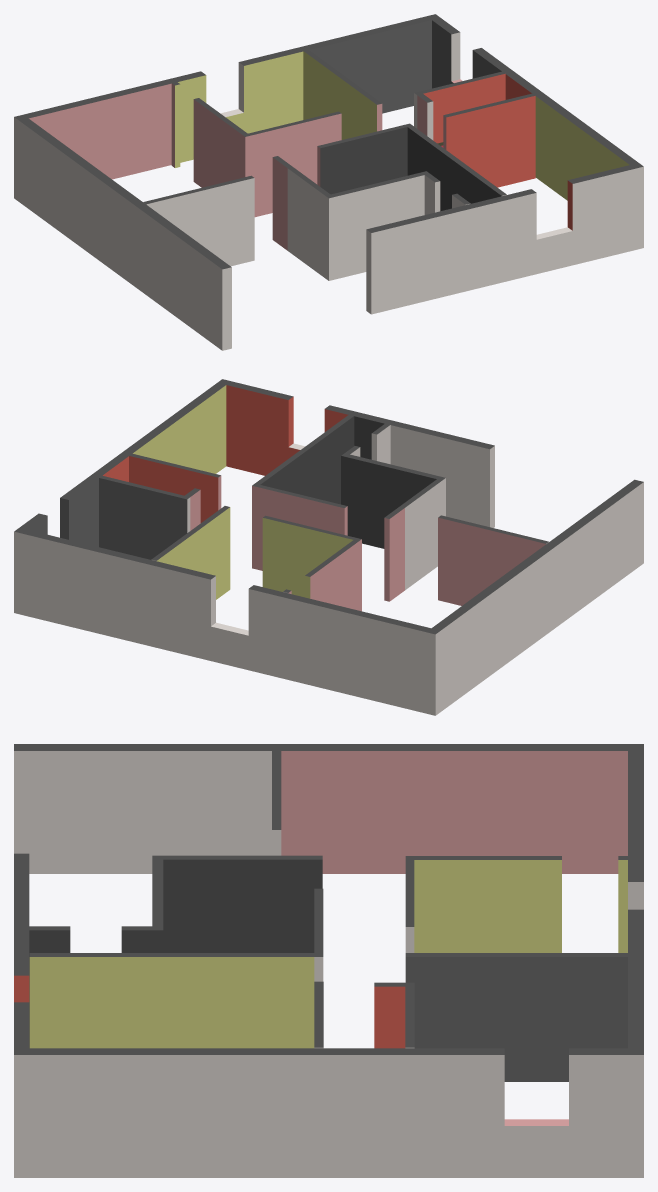
File: Tembok.fbx
3 views of the same model, one above another, from view 1: azimuth 30°, elevation 25°; view 2: azimuth 150°, elevation 25°; view 3: azimuth 270°, elevation 25° (orthographic). The views are drawn at different scales.
Parts seen in each view (by area): view 1: Cube.001; view 2: Cube.001; view 3: Cube.001.
Part boxes in pixels (x1,y1,x2,y2): Cube.001: (14, 14, 643, 350); Cube.001: (14, 379, 643, 715); Cube.001: (14, 744, 643, 1177).
Bounding box in the file's own units: 2237 × 419 × 1916.
